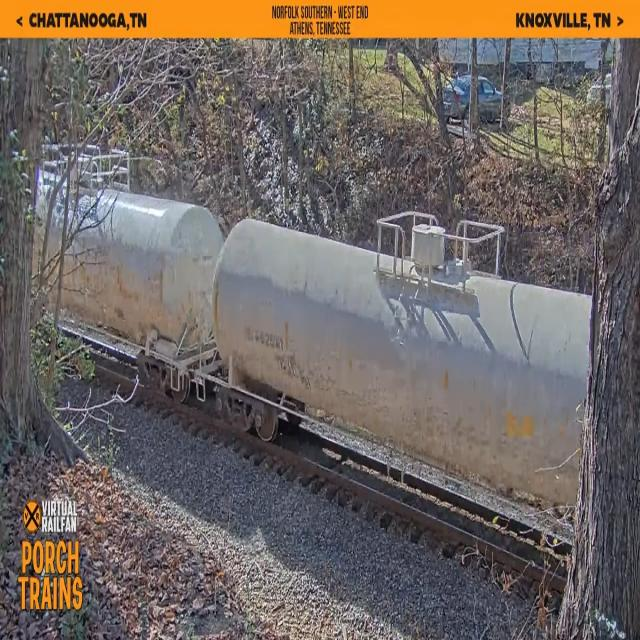tank: (209, 206, 575, 575), (41, 162, 226, 407)
